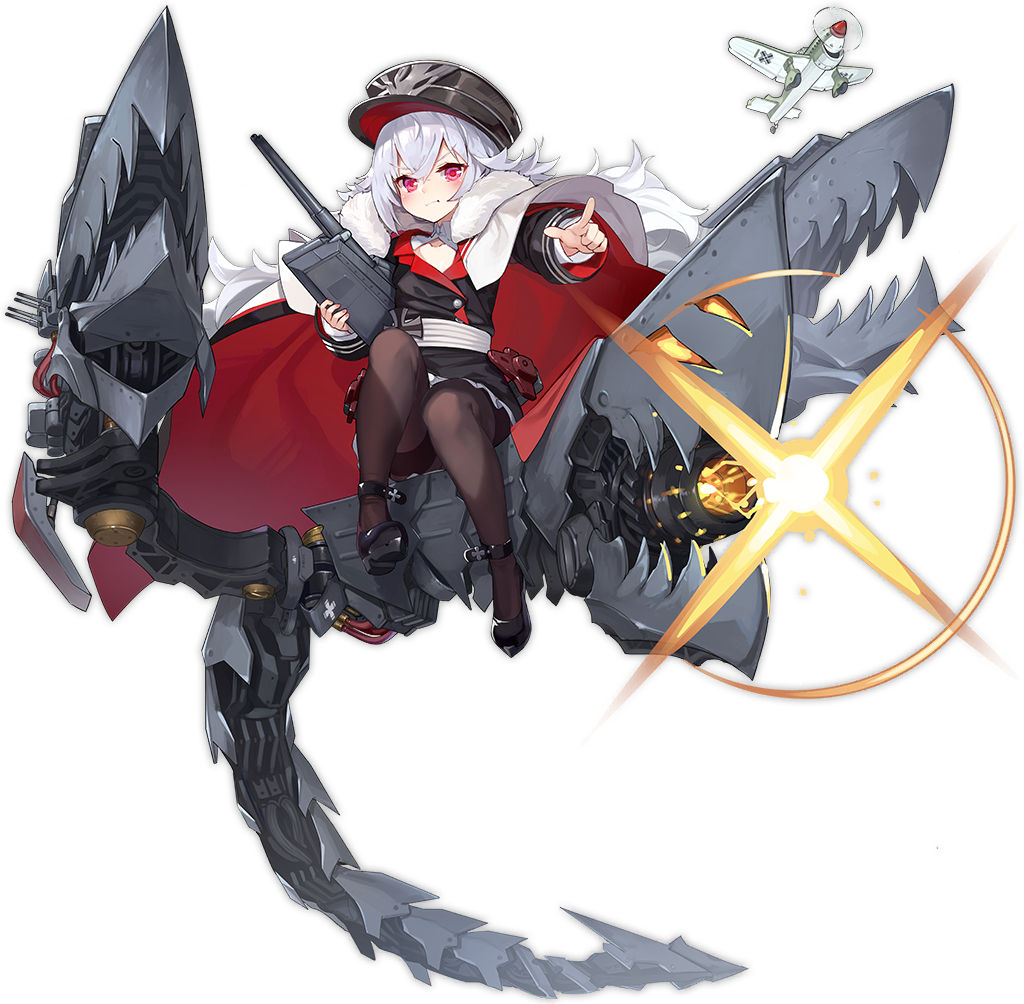person: (470, 2, 980, 636)
